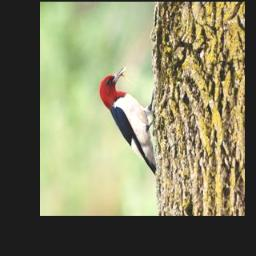Woodpecker: (98, 67, 155, 174)
